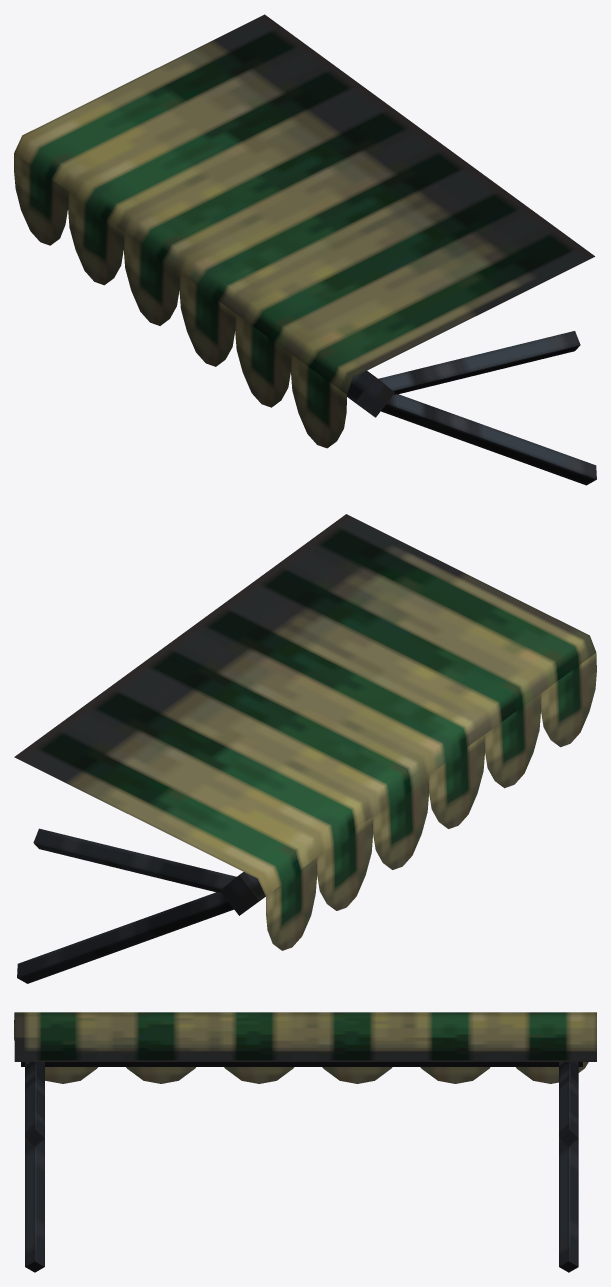
The model's file is EnvBdgMD_City_B_Outdoor_Awning_B.FBX.
3 renders of one model, top to bottom at view 1: azimuth 30°, elevation 25°; view 2: azimuth 150°, elevation 25°; view 3: azimuth 270°, elevation 25°, orthographic. The views are drawn at different scales.
Parts seen in each view (by area): view 1: EnvBdgMD_City_B_Outdoor_Awning_B; view 2: EnvBdgMD_City_B_Outdoor_Awning_B; view 3: EnvBdgMD_City_B_Outdoor_Awning_B.
Part boxes in pixels (<box>): EnvBdgMD_City_B_Outdoor_Awning_B: <box>14,14,596,485</box>; EnvBdgMD_City_B_Outdoor_Awning_B: <box>14,514,596,983</box>; EnvBdgMD_City_B_Outdoor_Awning_B: <box>14,1012,596,1272</box>.
Size of the model in its own units: 95.17 by 82.28 by 207.
1 material, 1 textured.
